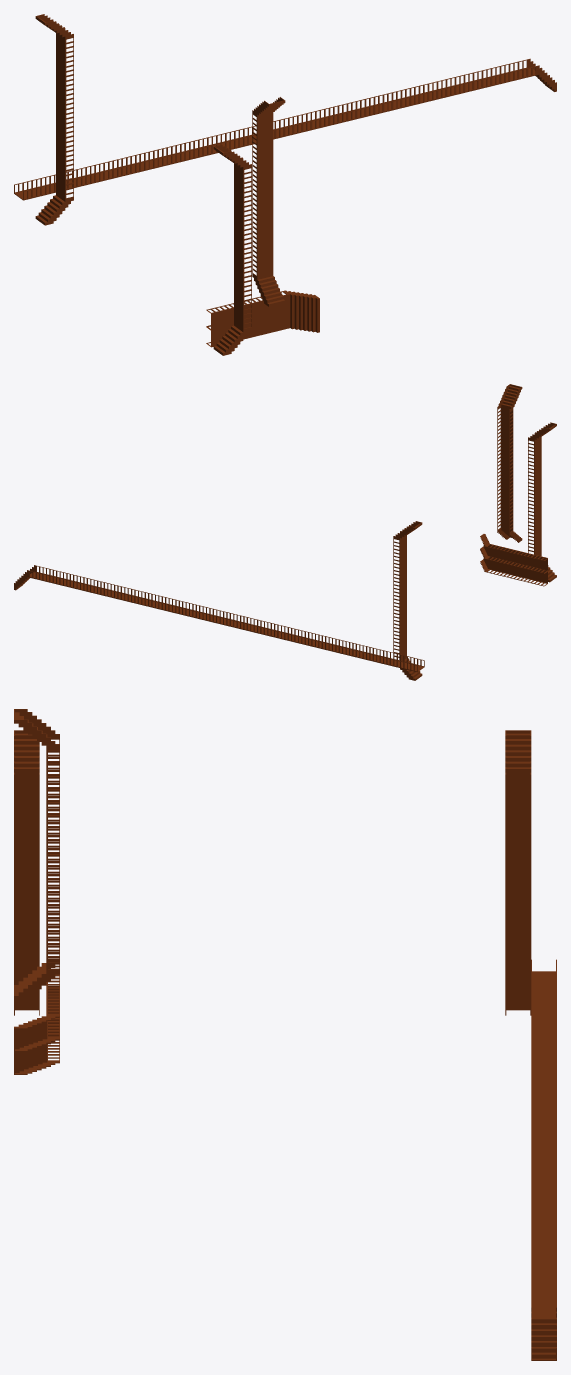
File: Stairs.fbx
3 renders of one model, top to bottom at view 1: azimuth 30°, elevation 25°; view 2: azimuth 150°, elevation 25°; view 3: azimuth 270°, elevation 25°, orthographic. The views are drawn at different scales.
Parts seen in each view (by area): view 1: Cube.567, Cube.590, Cube.591, Cube.588, Cube.574, Cube.589, Cube.566, Cube.592, Cube.575, Cube.587; view 2: Cube.567, Cube.591, Cube.590, Cube.588, Cube.587, Cube.575, Cube.592, Cube.566, Cube.574, Cube.589; view 3: Cube.567, Cube.575, Cube.592, Cube.574, Cube.589, Cube.566, Cube.590, Cube.591, Cube.588, Cube.587.
Part boxes in pixels (<box>): Cube.567: <box>14,78,460,200</box>; Cube.590: <box>252,193,285,306</box>; Cube.591: <box>252,97,285,196</box>; Cube.588: <box>206,290,319,330</box>; Cube.574: <box>35,113,73,225</box>; Cube.589: <box>213,243,251,355</box>; Cube.566: <box>451,58,556,93</box>; Cube.592: <box>213,144,251,249</box>; Cube.575: <box>35,14,73,119</box>; Cube.587: <box>206,311,319,347</box>; Cube.567: <box>87,580,424,672</box>; Cube.591: <box>497,384,522,472</box>; Cube.590: <box>497,467,522,542</box>; Cube.588: <box>480,534,547,573</box>; Cube.587: <box>480,549,547,586</box>; Cube.575: <box>393,521,422,600</box>; Cube.592: <box>528,422,556,501</box>; Cube.566: <box>14,565,93,591</box>; Cube.574: <box>393,595,422,680</box>; Cube.589: <box>528,497,556,582</box>; Cube.567: <box>531,959,556,1265</box>; Cube.575: <box>505,730,531,889</box>; Cube.592: <box>14,730,39,889</box>; Cube.574: <box>505,884,531,1015</box>; Cube.589: <box>14,884,39,1015</box>; Cube.566: <box>531,1254,556,1360</box>; Cube.590: <box>14,849,59,999</box>; Cube.591: <box>14,709,59,859</box>; Cube.588: <box>14,965,59,1051</box>; Cube.587: <box>14,1017,59,1074</box>.
Size of the model in its own units: 6583 by 2833 by 4204.
